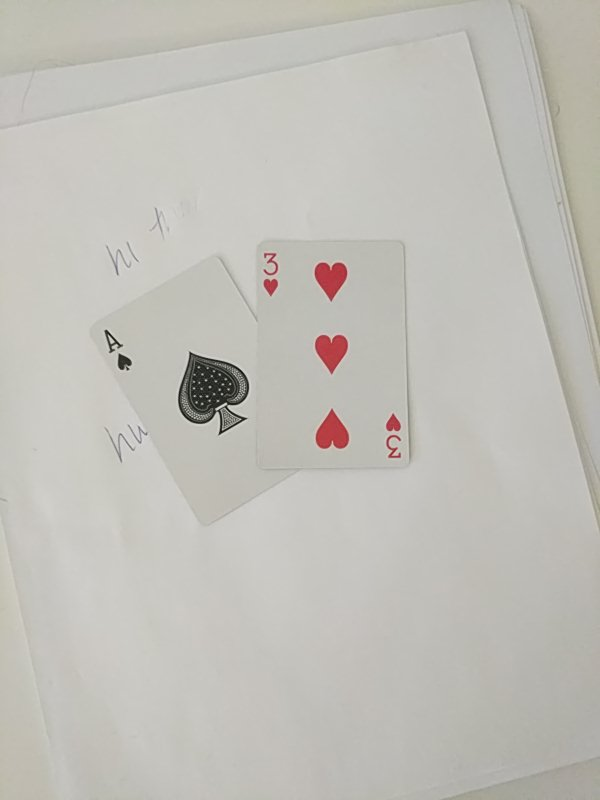Hearts: (257, 243, 412, 465)
Spades: (88, 253, 327, 527)
